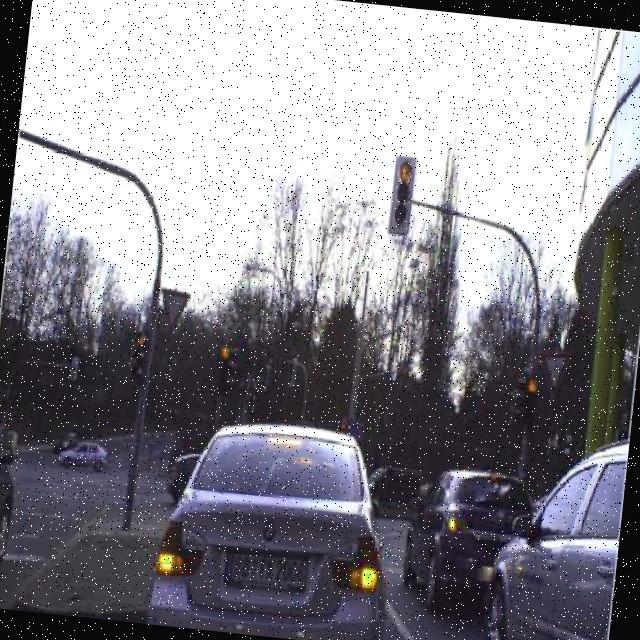Ustap pierwszenstwa: (155, 283, 193, 340), (536, 348, 573, 399)
